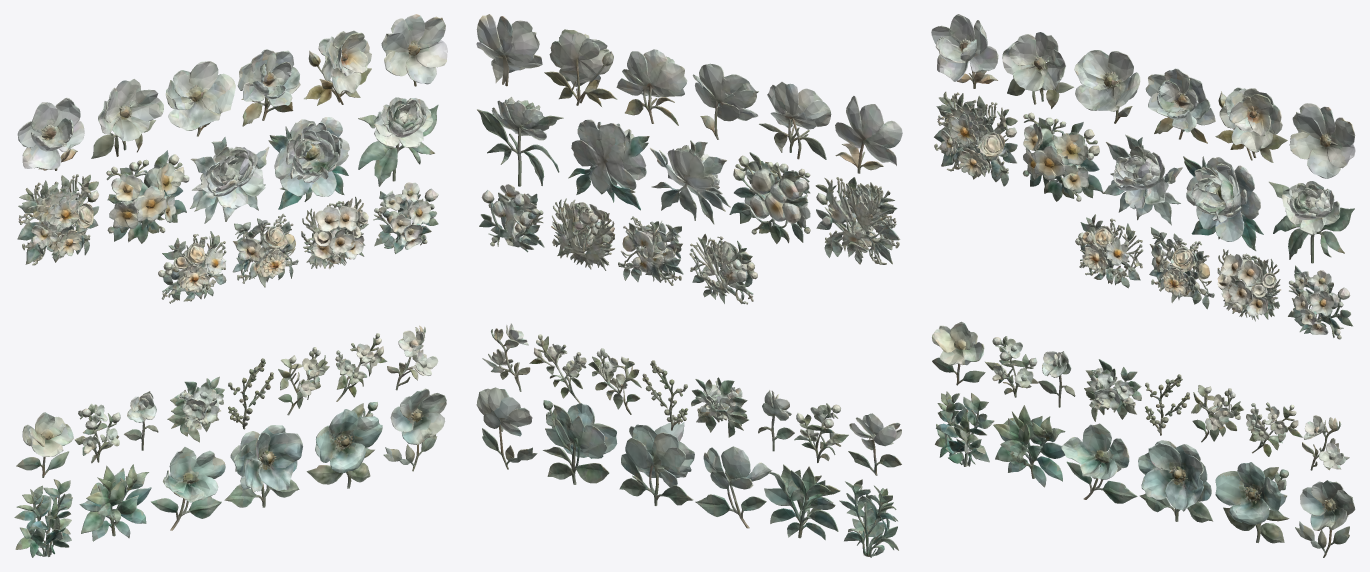
3 renders of one model, left to right at view 1: azimuth 30°, elevation 25°; view 2: azimuth 150°, elevation 25°; view 3: azimuth 330°, elevation 25°, orthographic.
Parts seen in each view (by area): view 1: Mesh 6, Mesh 34, Mesh 17, Mesh 27, Mesh 25, Mesh 42, Mesh 38, Mesh 23, Mesh 45, Mesh 4, Mesh 16, Mesh 37 (+17 smaller); view 2: Mesh 6, Mesh 17, Mesh 34, Mesh 27, Mesh 38, Mesh 25, Mesh 39, Mesh 14, Mesh 37, Mesh 31, Mesh 30, Mesh 42 (+17 smaller); view 3: Mesh 6, Mesh 34, Mesh 17, Mesh 27, Mesh 38, Mesh 25, Mesh 42, Mesh 45, Mesh 39, Mesh 16, Mesh 23, Mesh 14 (+17 smaller).
Part boxes in pixels (<box>): Mesh 6: <box>17,174,99,265</box>; Mesh 34: <box>268,117,349,209</box>; Mesh 17: <box>106,150,189,243</box>; Mesh 27: <box>224,425,302,507</box>; Mesh 25: <box>190,137,269,223</box>; Mesh 42: <box>358,97,438,186</box>; Mesh 38: <box>306,402,382,488</box>; Mesh 23: <box>165,61,235,136</box>; Mesh 45: <box>381,14,447,86</box>; Mesh 4: <box>17,97,84,170</box>; Mesh 16: <box>91,79,163,158</box>; Mesh 37: <box>301,196,368,268</box>; Mesh 6: <box>815,177,900,264</box>; Mesh 17: <box>729,152,810,243</box>; Mesh 34: <box>568,119,649,210</box>; Mesh 27: <box>619,421,694,505</box>; Mesh 38: <box>543,400,617,484</box>; Mesh 25: <box>650,140,730,224</box>; Mesh 39: <box>544,29,617,106</box>; Mesh 14: <box>764,464,840,540</box>; Mesh 37: <box>551,198,614,270</box>; Mesh 31: <box>616,49,687,125</box>; Mesh 30: <box>618,216,683,285</box>; Mesh 42: <box>477,96,563,186</box>; Mesh 6: <box>934,91,1017,186</box>; Mesh 34: <box>1183,156,1263,250</box>; Mesh 17: <box>1023,112,1103,201</box>; Mesh 27: <box>1138,440,1213,522</box>; Mesh 38: <box>1215,462,1289,543</box>; Mesh 25: <box>1102,134,1182,225</box>; Mesh 42: <box>1269,181,1354,263</box>; Mesh 45: <box>1289,103,1355,178</box>; Mesh 39: <box>1215,87,1287,162</box>; Mesh 16: <box>1002,32,1074,108</box>; Mesh 23: <box>1074,50,1140,123</box>; Mesh 14: <box>993,405,1065,487</box>.
Size of the model in its own units: 1.86 by 1.9 by 0.1297.
Materials: 1 (1 with a texture image).
